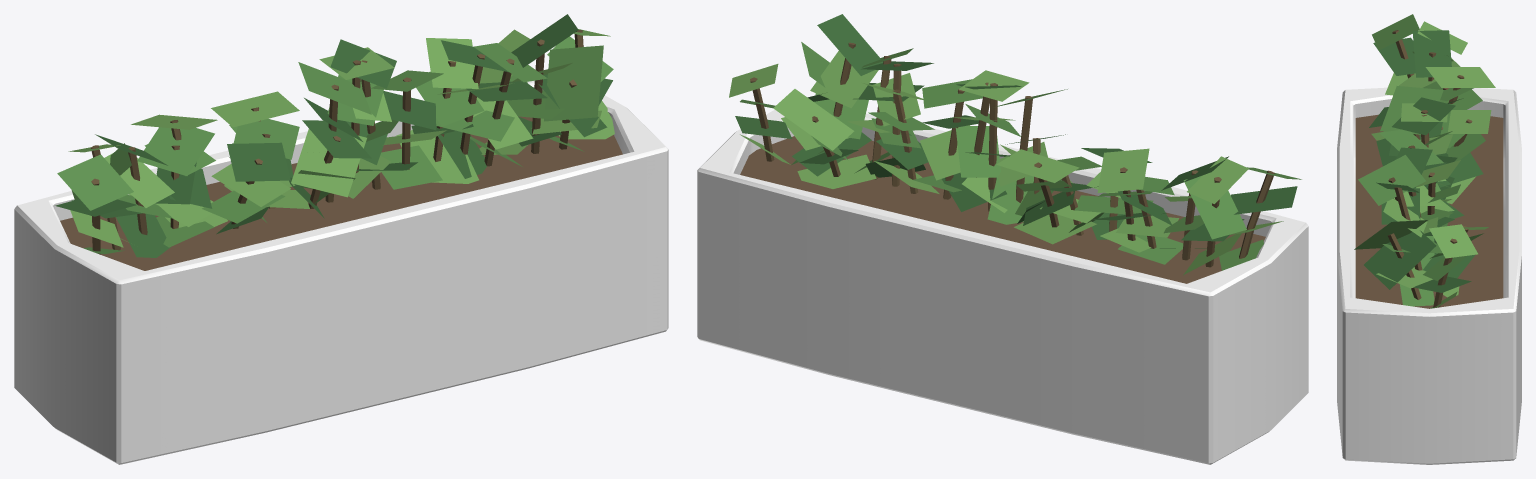
File: planter-trough-1200.glb
3 renders of one model, left to right at view 1: azimuth 30°, elevation 25°; view 2: azimuth 150°, elevation 25°; view 3: azimuth 270°, elevation 25°, orthographic. The views are drawn at different scales.
Visible parts, largest first — view 1: planter-trough-1200.tint, planter-trough-1200.foliage, planter-trough-1200.foliage2, planter-trough-1200.foliage3, planter-trough-1200.soil, planter-trough-1200.stem; view 2: planter-trough-1200.tint, planter-trough-1200.foliage2, planter-trough-1200.foliage, planter-trough-1200.soil, planter-trough-1200.foliage3, planter-trough-1200.stem; view 3: planter-trough-1200.tint, planter-trough-1200.soil, planter-trough-1200.foliage3, planter-trough-1200.foliage, planter-trough-1200.foliage2, planter-trough-1200.stem.
Part boxes in pixels (bbox=[...]): planter-trough-1200.tint: bbox=[14, 80, 668, 464]; planter-trough-1200.foliage: bbox=[57, 36, 613, 254]; planter-trough-1200.foliage2: bbox=[68, 29, 614, 247]; planter-trough-1200.foliage3: bbox=[55, 14, 612, 257]; planter-trough-1200.soil: bbox=[60, 116, 622, 270]; planter-trough-1200.stem: bbox=[91, 30, 583, 254]; planter-trough-1200.tint: bbox=[697, 110, 1308, 464]; planter-trough-1200.foliage2: bbox=[729, 51, 1283, 275]; planter-trough-1200.foliage: bbox=[740, 42, 1301, 270]; planter-trough-1200.soil: bbox=[740, 136, 1265, 283]; planter-trough-1200.foliage3: bbox=[735, 14, 1297, 248]; planter-trough-1200.stem: bbox=[750, 42, 1274, 267]; planter-trough-1200.tint: bbox=[1337, 87, 1521, 464]; planter-trough-1200.soil: bbox=[1355, 114, 1503, 308]; planter-trough-1200.foliage3: bbox=[1364, 30, 1483, 292]; planter-trough-1200.foliage: bbox=[1354, 14, 1485, 306]; planter-trough-1200.foliage2: bbox=[1371, 21, 1495, 308]; planter-trough-1200.stem: bbox=[1388, 30, 1472, 307].
Size of the model in its own units: 1.2 by 0.6 by 0.4.
